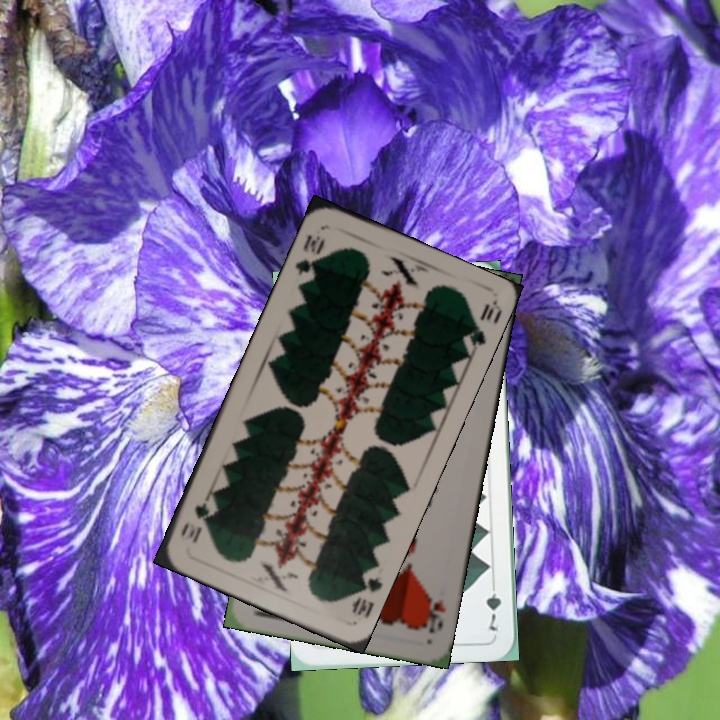G10: (347, 564, 384, 621), (290, 230, 328, 279)
G7: (482, 576, 504, 635)
HO: (419, 589, 448, 636)
